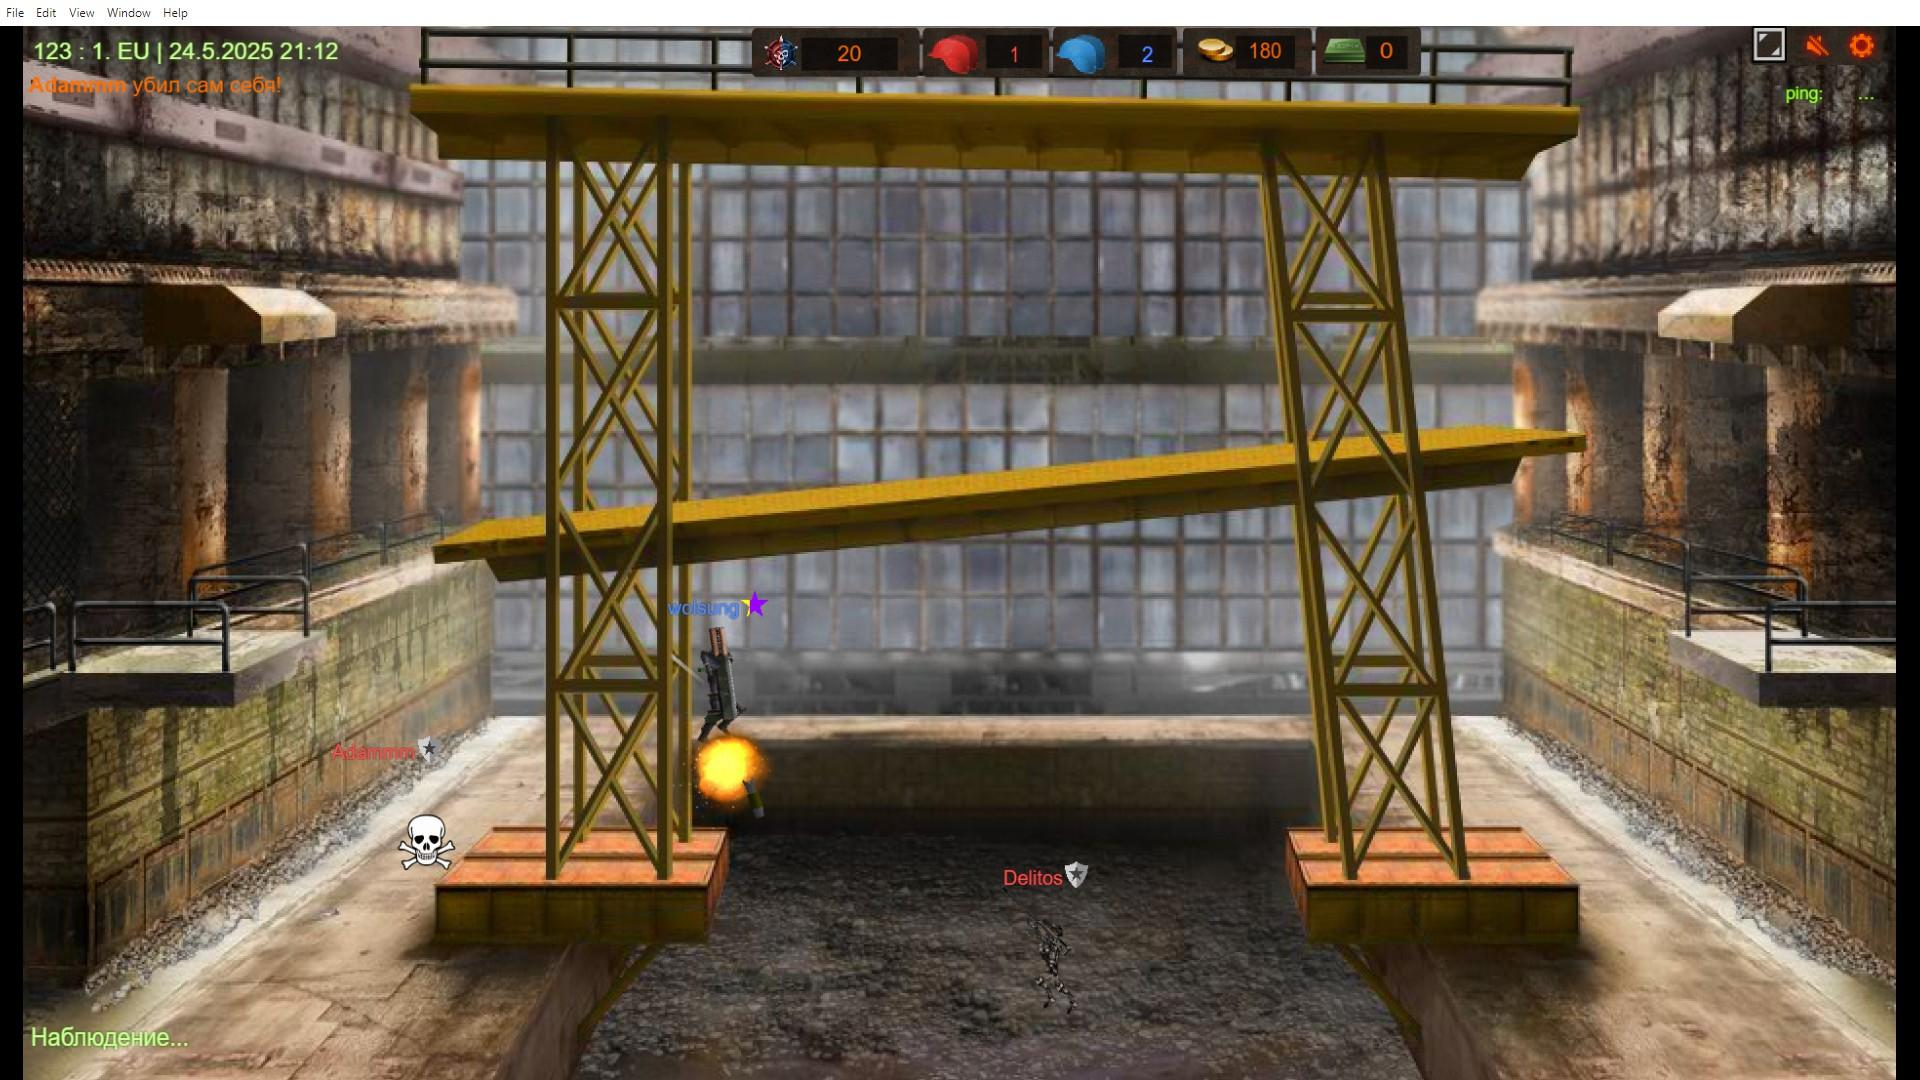enemy: (702, 651, 733, 740), (1039, 927, 1068, 1013)
